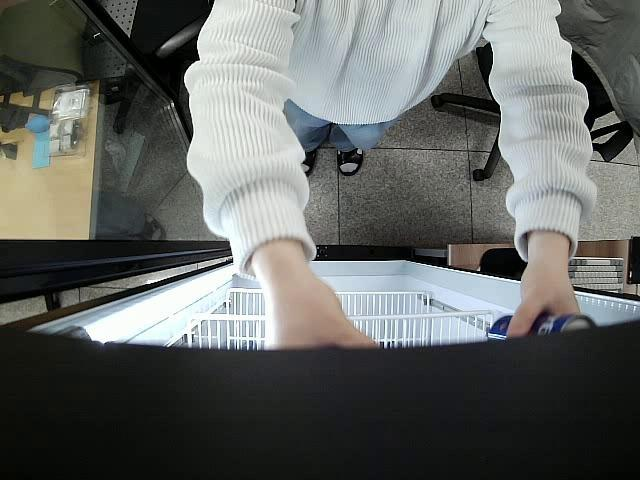16_hot6: (487, 314, 598, 342)
